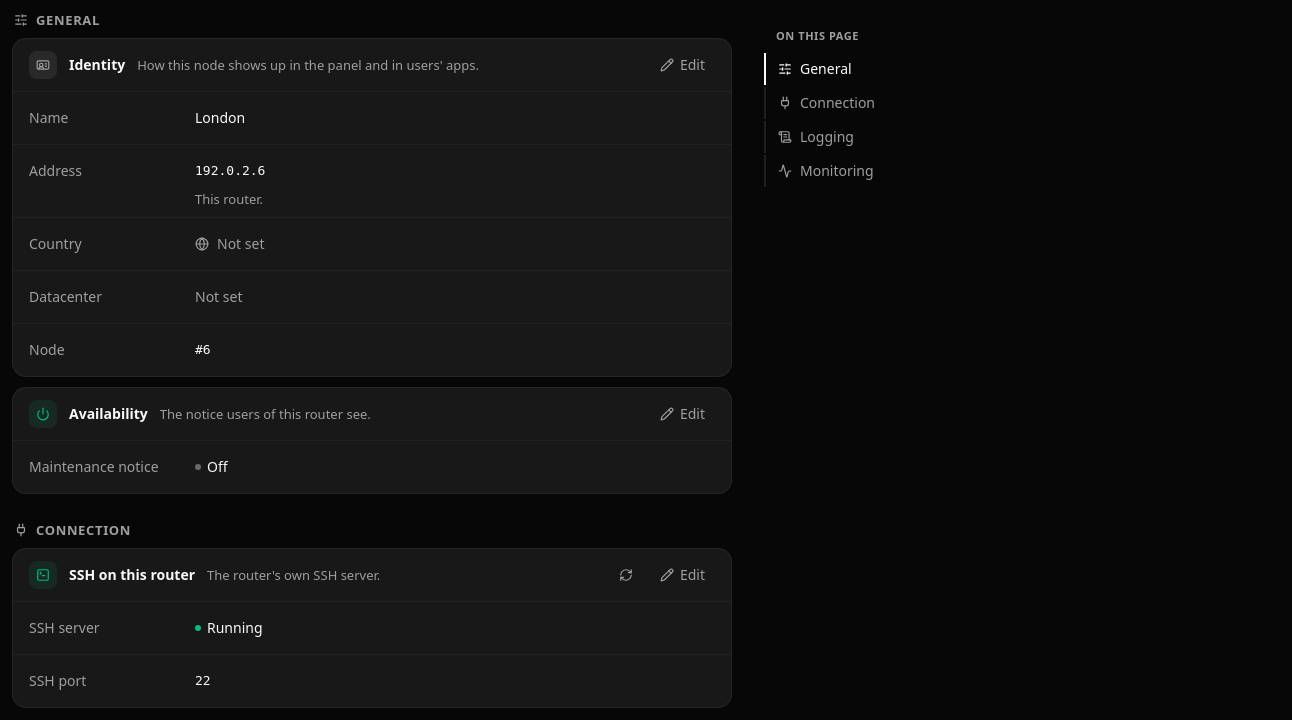
Test case: node settings page › keeps a refused save open with the reason
Click the button with aria-label "Edit Identity" at (682, 65), box [650,49,715,81]
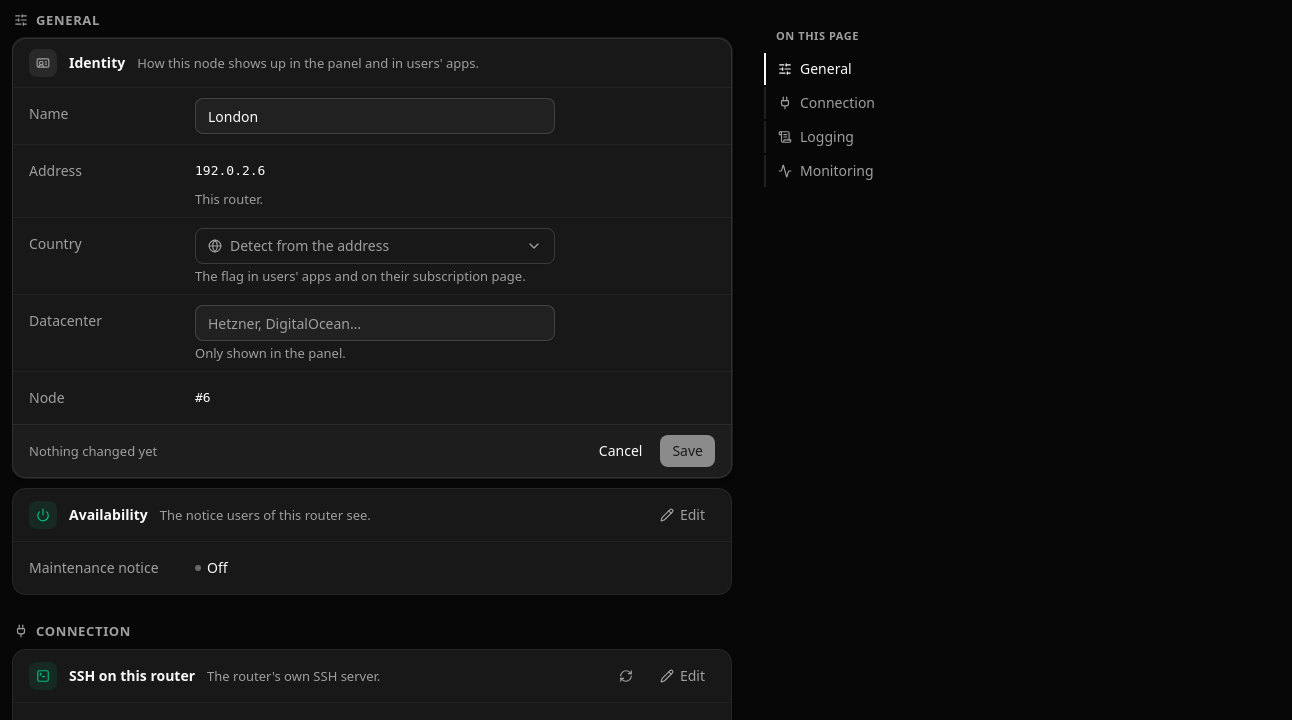
Type " 2" into the field labelled "Name" at (375, 116), box [195,98,555,134]
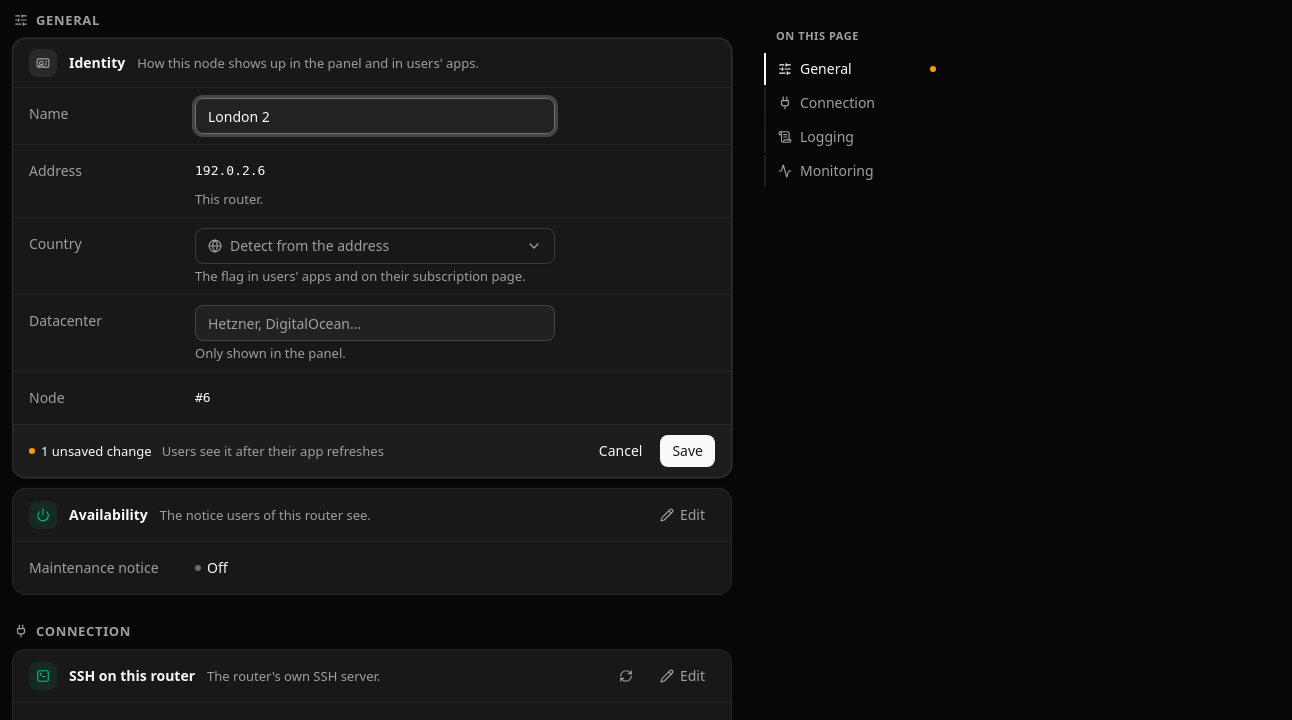
Click the button "Save" at (688, 451), box [660,435,715,467]
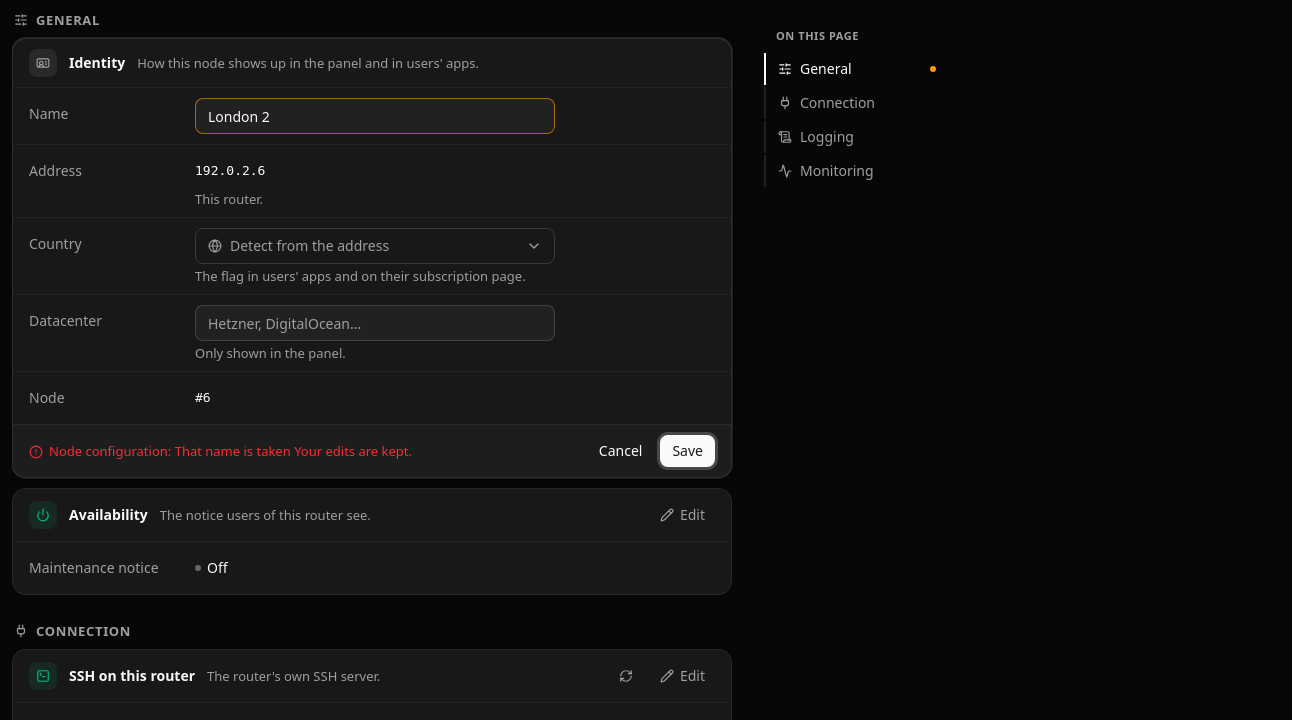
expect the field labelled "Name" holds "London 2": met, box [195,98,555,134]
expect the footer named "Unsaved changes" shows "That name is taken": met, box [49,442,291,460]
expect the footer named "Unsaved changes" shows "Your edits are kept.": met, box [291,442,412,460]
